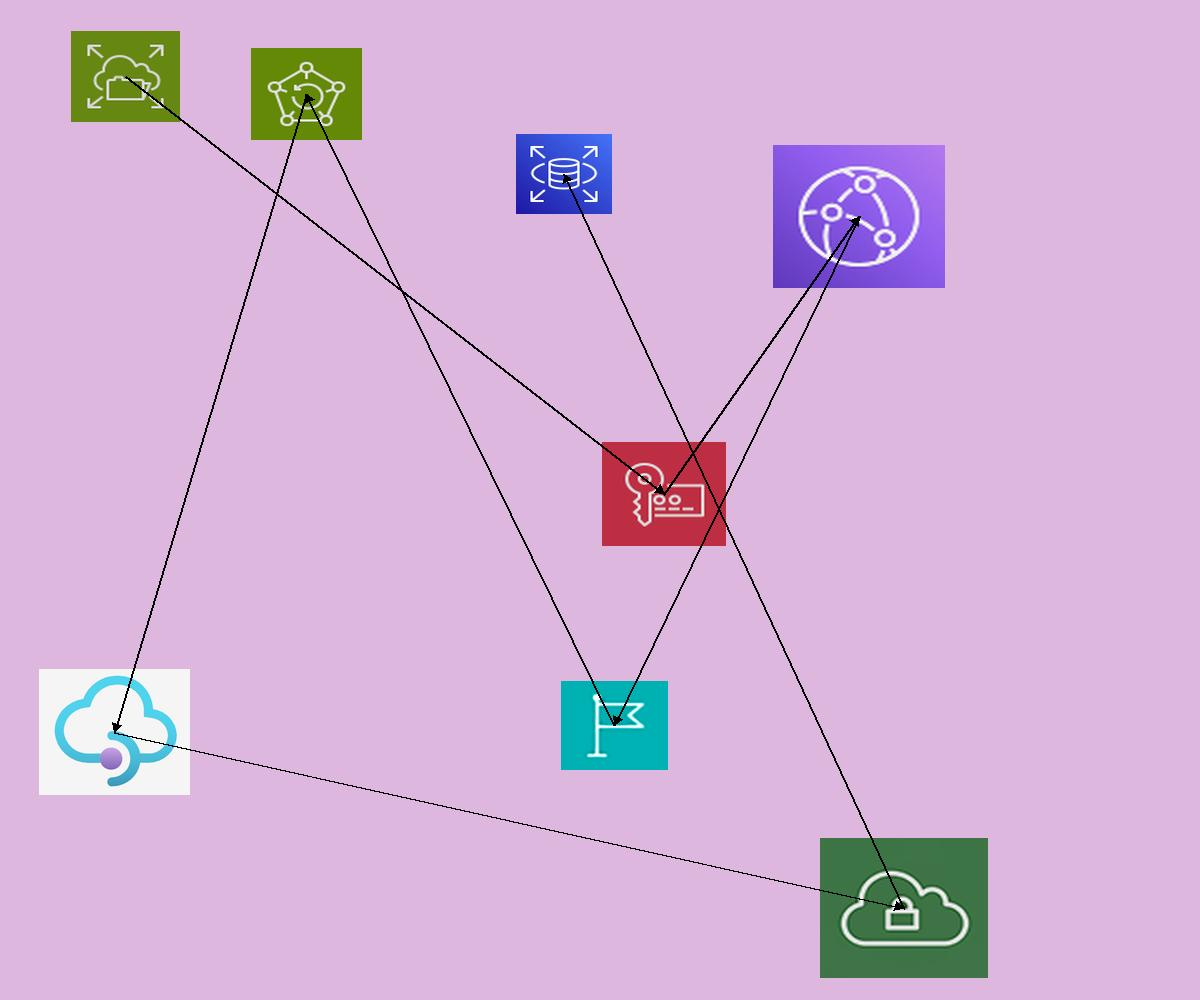AWS-Backup: (251, 48, 362, 140)
AWS-CloudFront: (773, 145, 945, 288)
AWS-EFS: (71, 31, 180, 122)
AWS-Key-Management-Service: (602, 442, 726, 546)
AWS-Private_vpc: (820, 838, 988, 978)
AWS-RDS: (516, 134, 612, 214)
AWS-Region: (561, 681, 668, 770)
Azure_api_gateway: (39, 669, 190, 795)
